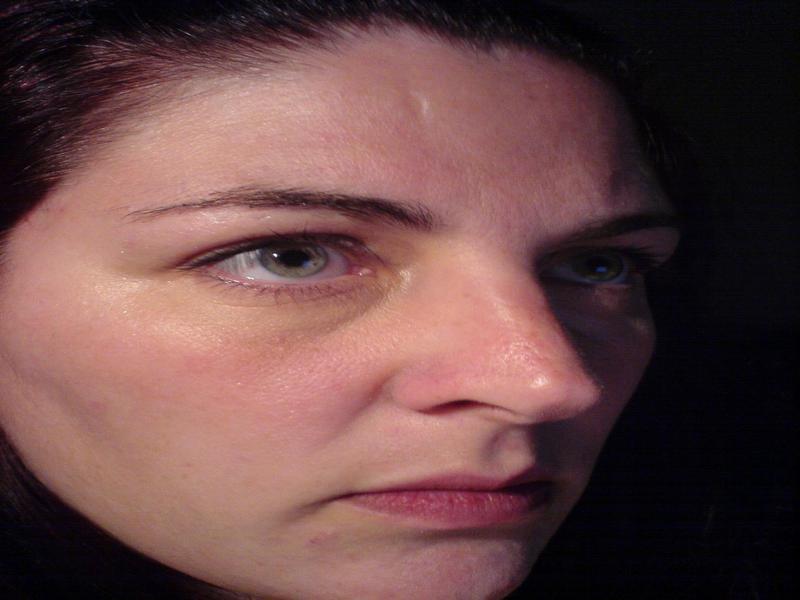person: (1, 1, 682, 600)
